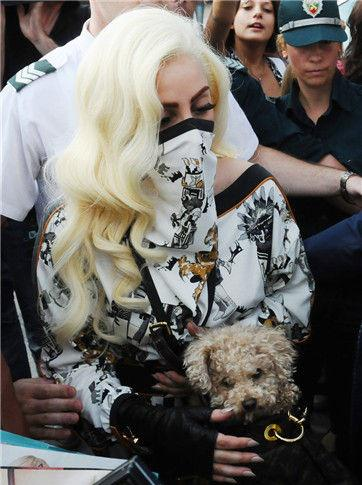NONE: (287, 25, 344, 86), (229, 1, 277, 45)
OK: (136, 89, 216, 182)
